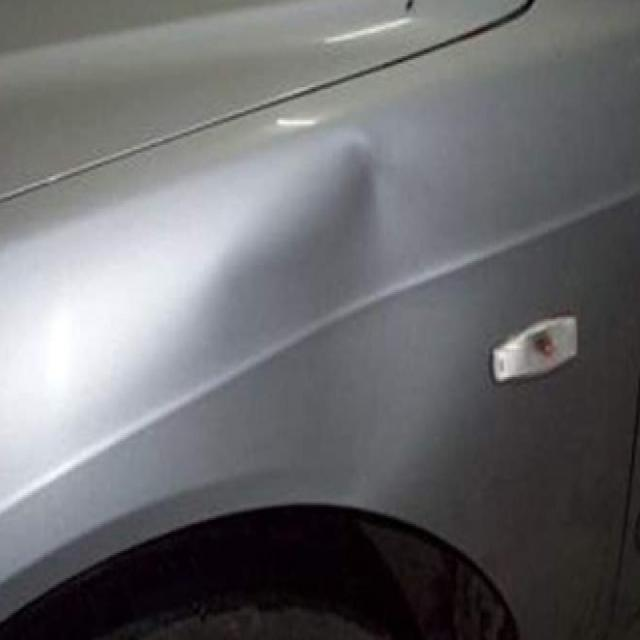dents: (196, 138, 496, 493)
